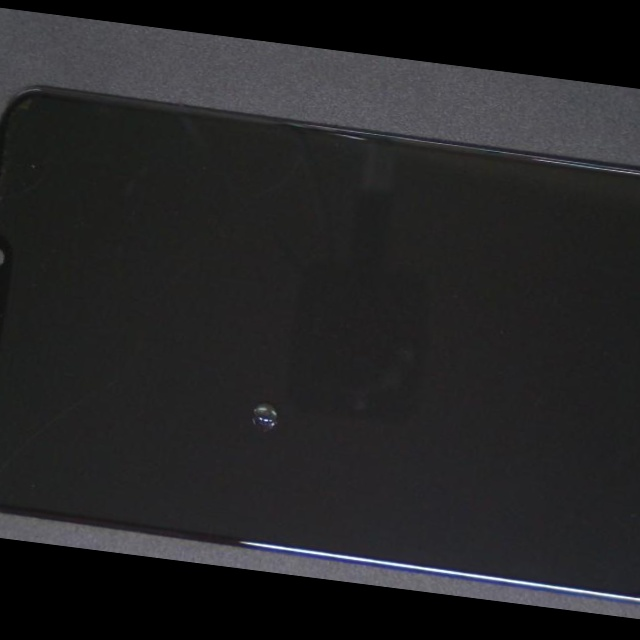oil: (114, 221, 468, 592)
